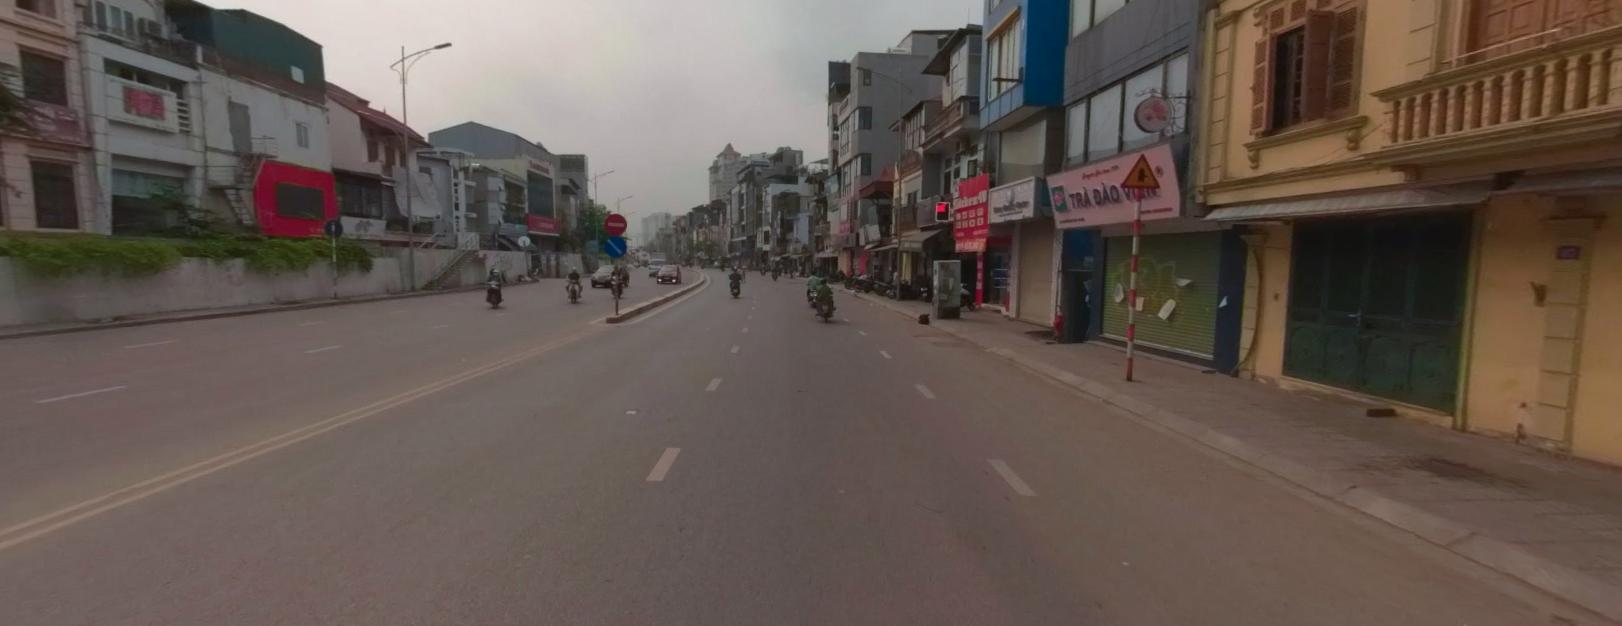Cam nguoc chieu: (604, 212, 626, 235)
Hieu lenh: (604, 233, 627, 254)
Nguy hiem: (1119, 151, 1162, 190)
